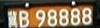B: (19, 10, 29, 28)
